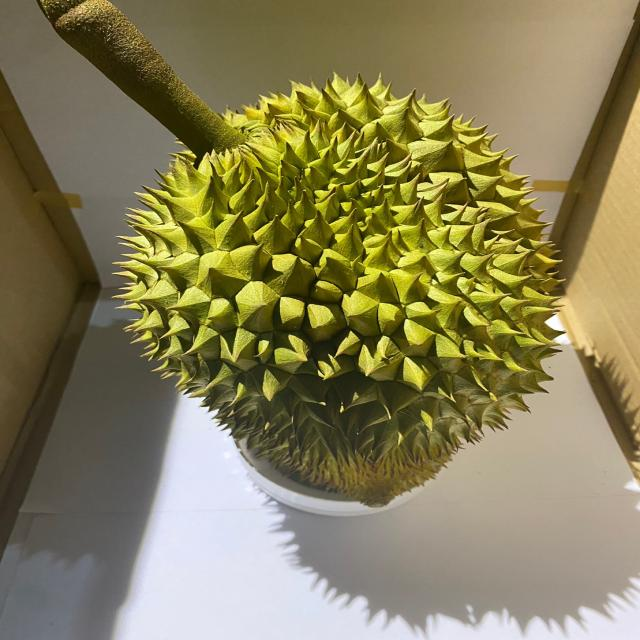immature: (111, 69, 568, 507)
